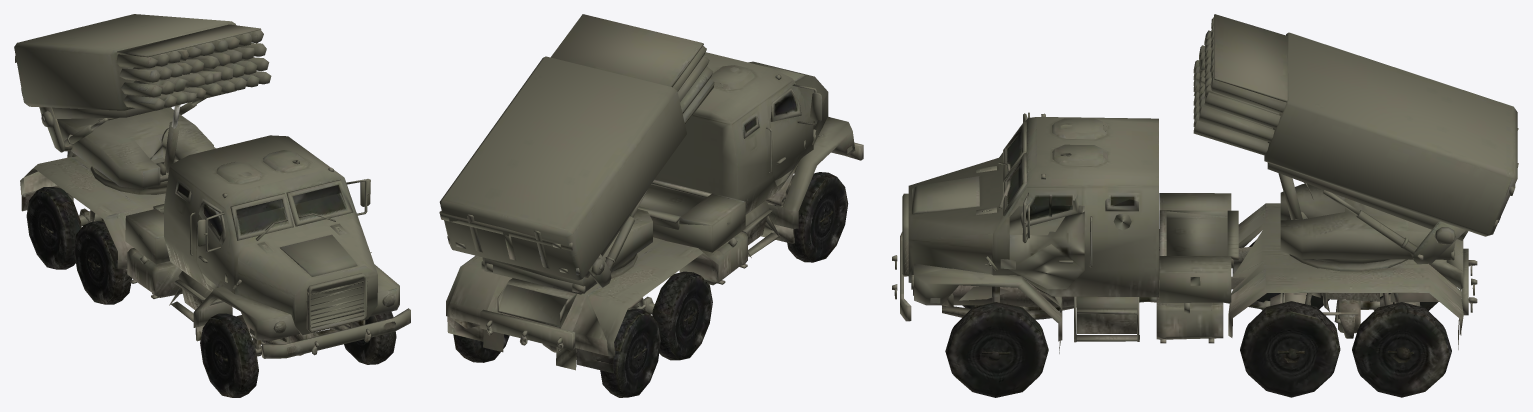
Rendered from rocket_truck.glb.
3 views of the same model, side by side, from view 1: azimuth 30°, elevation 25°; view 2: azimuth 150°, elevation 25°; view 3: azimuth 270°, elevation 25° (orthographic). The views are drawn at different scales.
Parts seen in each view (by area): view 1: hull, P_barrel; view 2: hull, P_barrel; view 3: hull, P_barrel.
Boxes of the visible parts, x1,y1,x2,y2 form: hull: (20,135,410,397); P_barrel: (14,14,271,238); hull: (446,52,863,397); P_barrel: (439,14,745,294); hull: (892,112,1477,397); P_barrel: (1159,14,1518,273).
Bounding box in the file's own units: 3.71 × 5.47 × 10.
3 materials, 3 textured.
